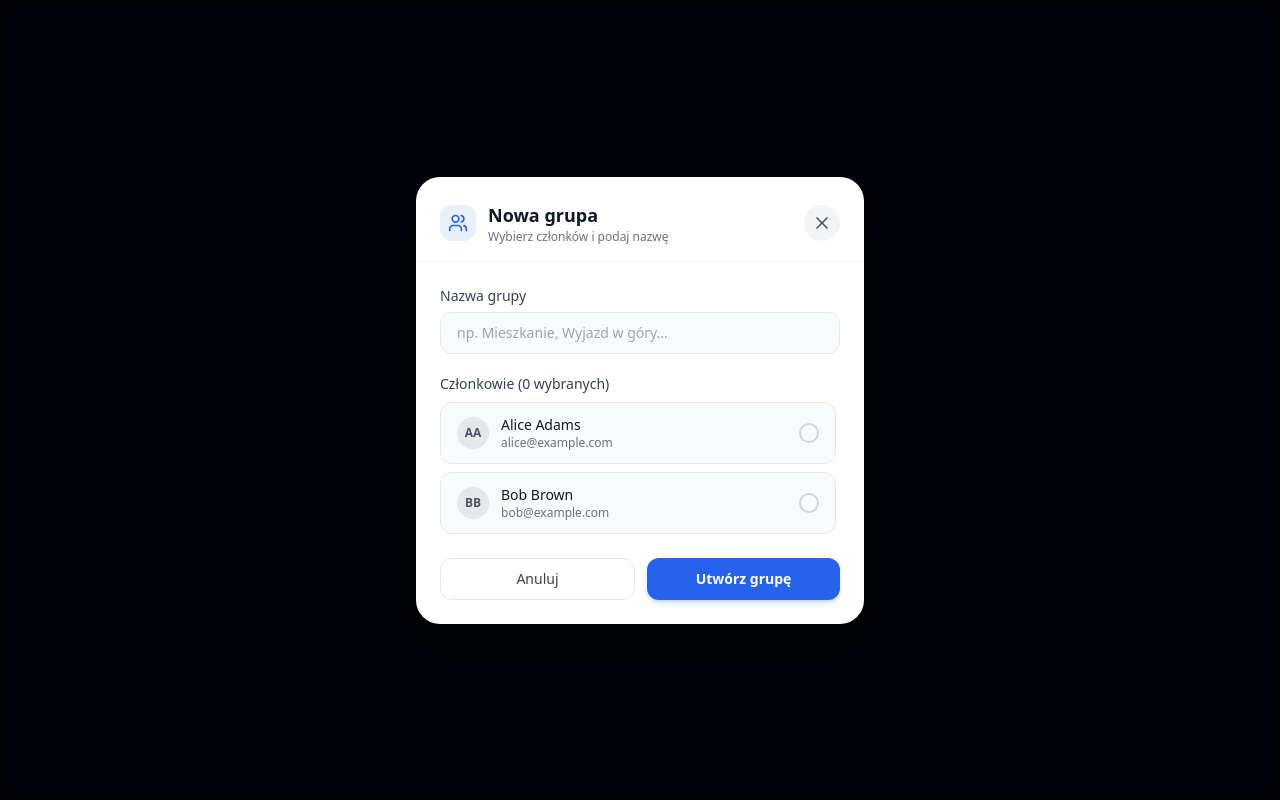
Test: CreateGroupModal › shows error if name is empty
The image size is (1280, 800).
Click the button "Utwórz grupę". click: [744, 578]
box: [647,558,840,600]
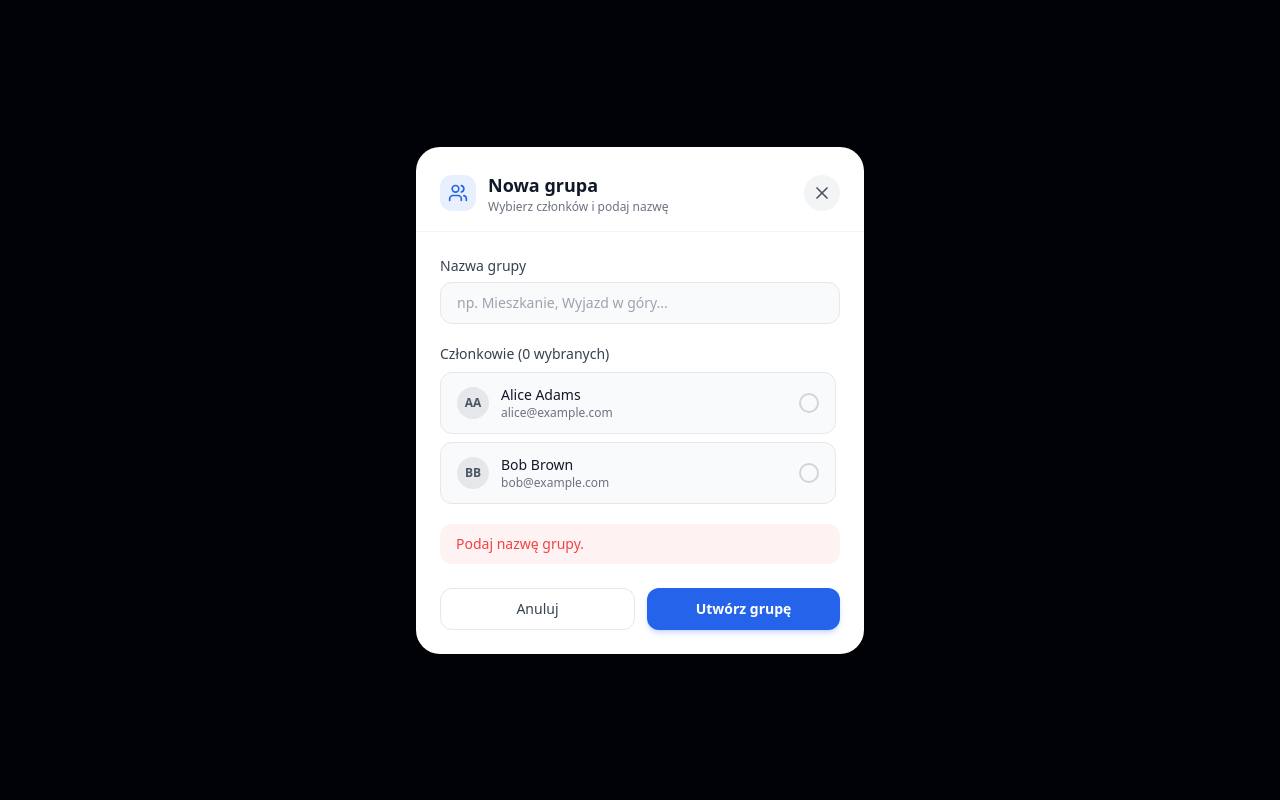
Check: the text "Podaj nazwę grupy." is shown, box [440,524,840,564]
